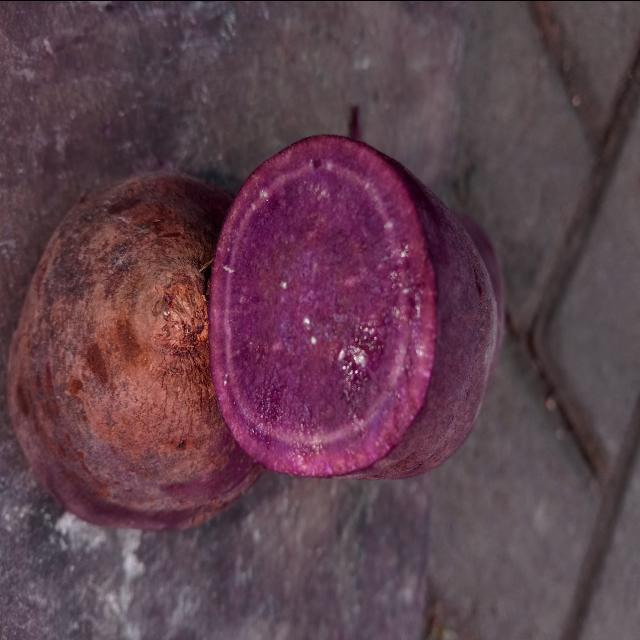Healthy Sweet Potato: (209, 135, 436, 477)
